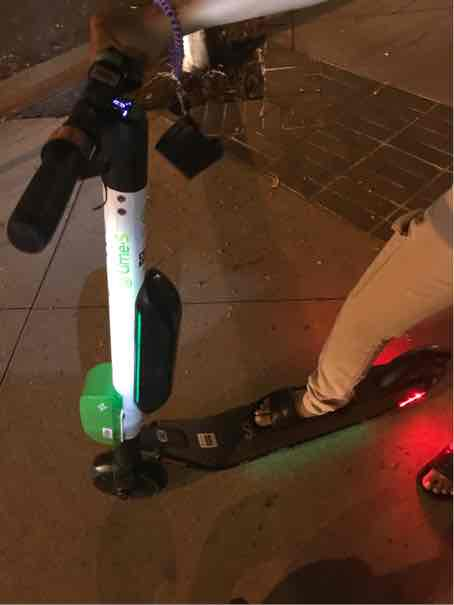scooter: (4, 23, 443, 508)
